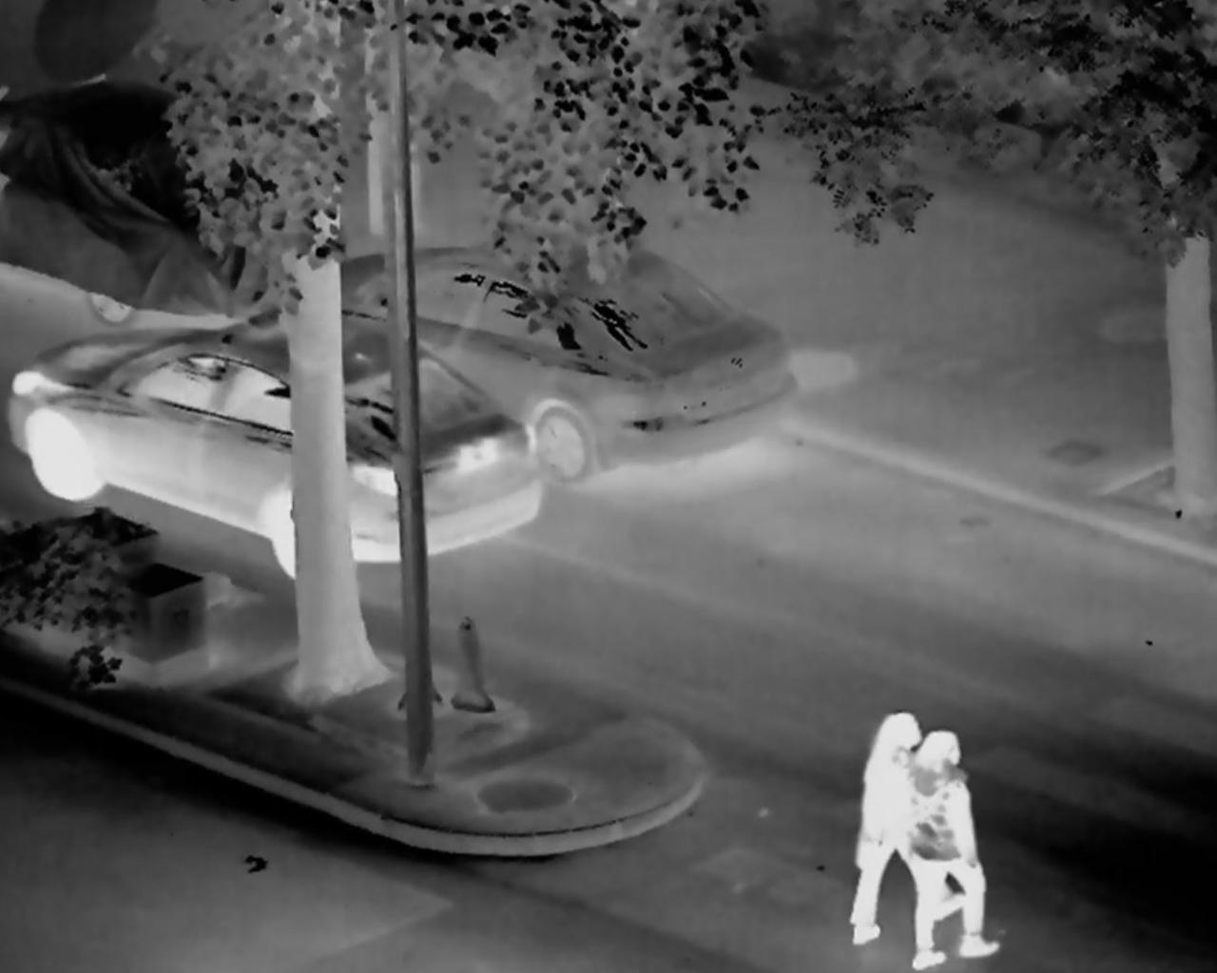person: (834, 698, 934, 959), (918, 732, 1011, 973)
